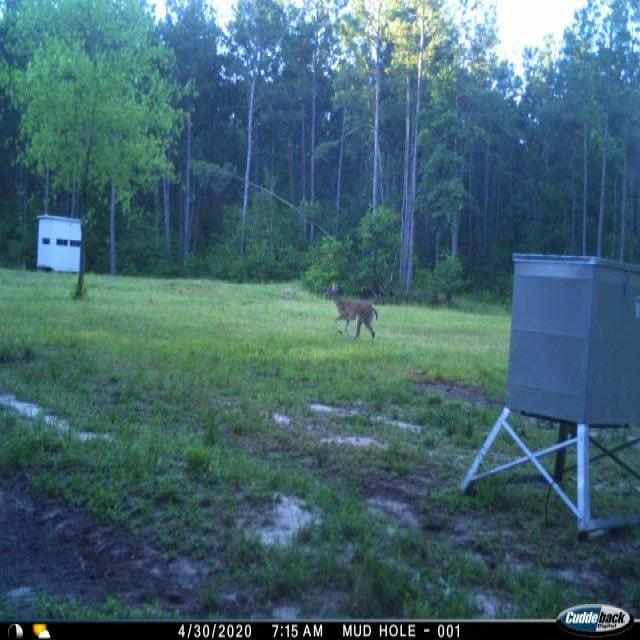deer: (322, 280, 384, 348)
